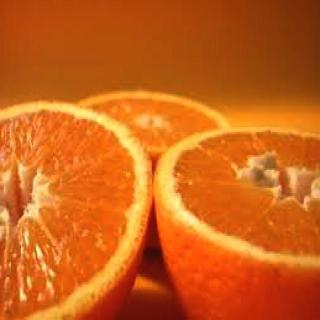orange: (0, 89, 157, 320), (152, 105, 320, 320), (58, 79, 230, 259)
